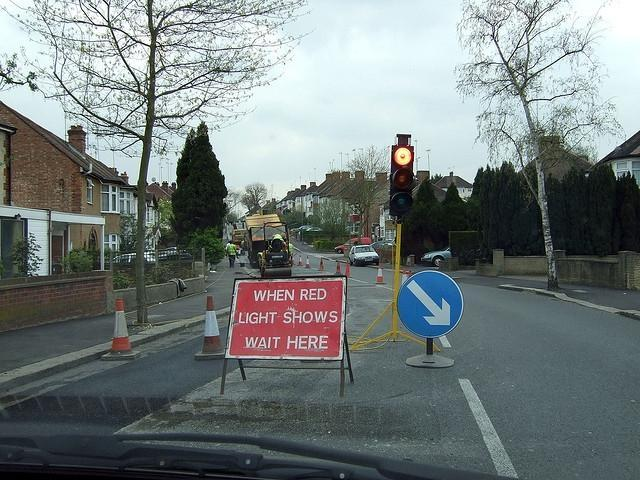car: (348, 244, 381, 266), (421, 244, 452, 267), (334, 238, 371, 254), (299, 226, 324, 236), (370, 241, 396, 248)
truck: (245, 207, 293, 276)
